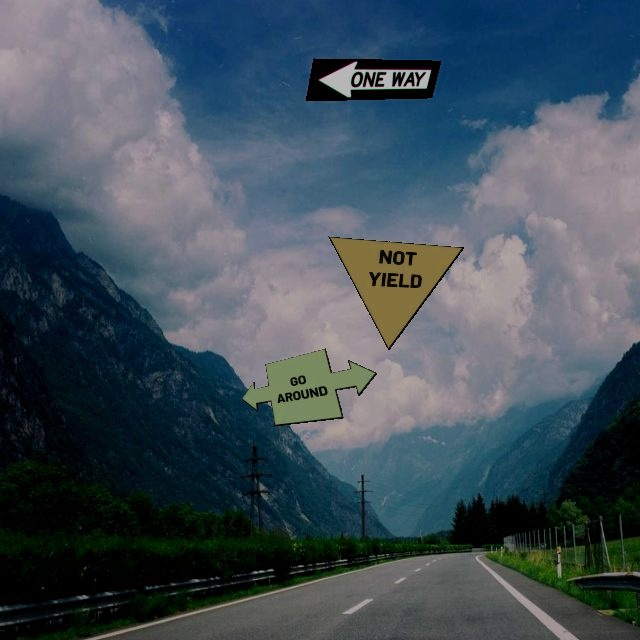GO_AROUND: (241, 348, 377, 426)
NOT_YIELD: (328, 236, 464, 350)
ONE_WAY_ left: (305, 58, 441, 101)
